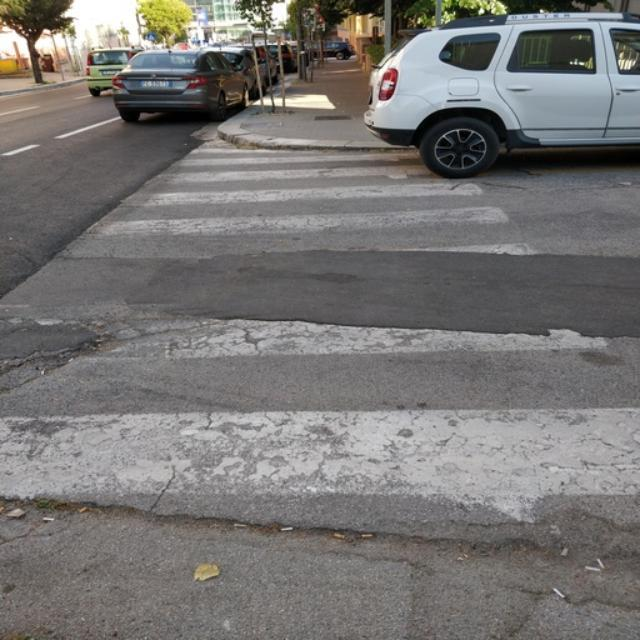sidewalk: (0, 137, 640, 640)
